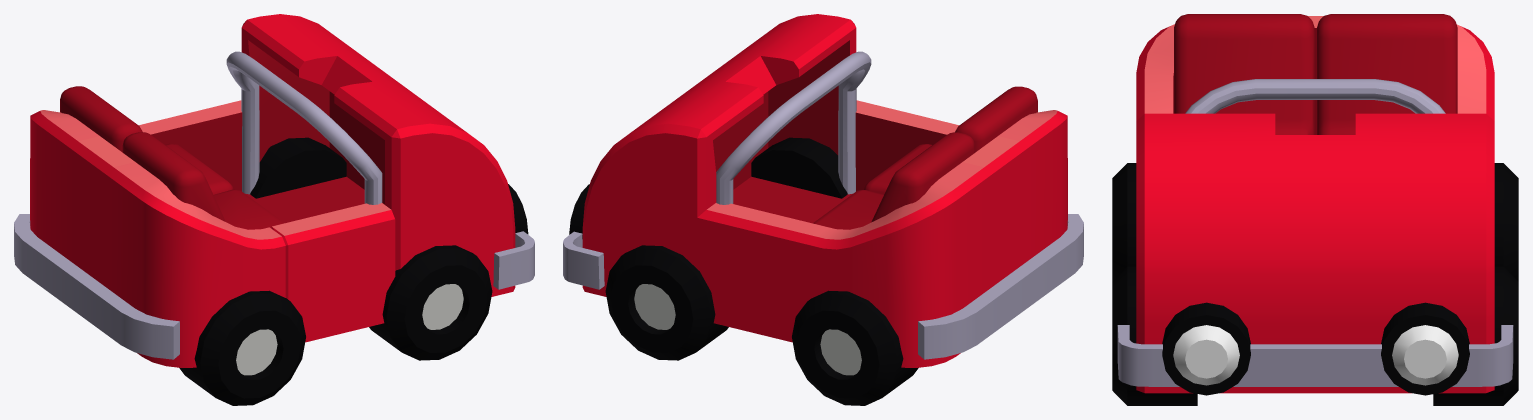
The model's file is red.obj.
3 renders of one model, left to right at view 1: azimuth 30°, elevation 25°; view 2: azimuth 150°, elevation 25°; view 3: azimuth 270°, elevation 25°, orthographic. The views are drawn at different scales.
Visible parts, largest first — view 1: Cube.026_Mesh; view 2: Cube.026_Mesh; view 3: Cube.026_Mesh.
Part boxes in pixels (x1,y1,x2,y2): Cube.026_Mesh: (14, 14, 534, 405); Cube.026_Mesh: (563, 14, 1083, 405); Cube.026_Mesh: (1112, 14, 1518, 405).
Size of the model in its own units: 3.61 by 2.1 by 2.81.
1 material, 1 textured.
